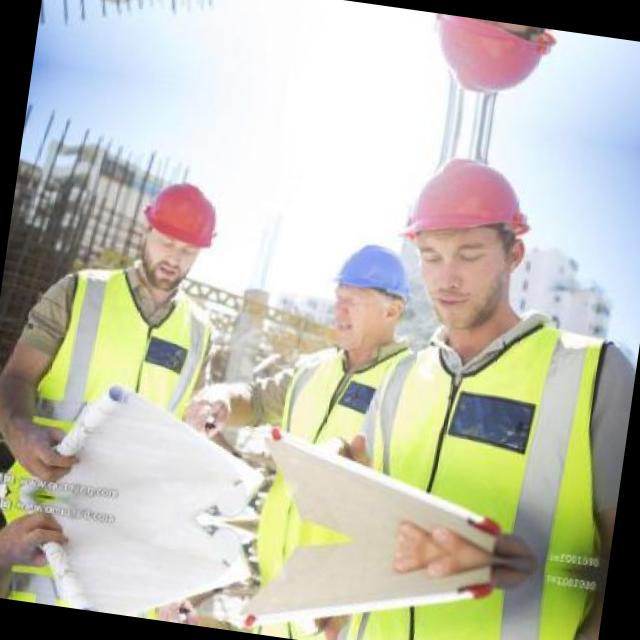helmet: (378, 136, 556, 339), (409, 11, 573, 118), (309, 223, 425, 365), (126, 167, 230, 299)
